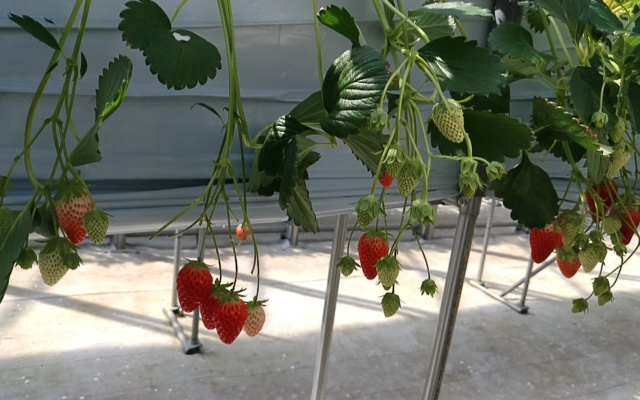GreenStrawberry: (54, 182, 96, 246), (35, 237, 76, 289), (431, 97, 465, 144), (598, 138, 633, 182), (555, 207, 584, 250), (82, 207, 110, 248), (396, 160, 424, 201), (242, 301, 270, 338), (354, 195, 381, 231), (578, 237, 602, 275), (376, 256, 400, 290), (382, 146, 406, 176), (381, 290, 403, 317), (600, 210, 622, 235), (609, 116, 625, 144), (338, 257, 356, 277), (235, 223, 249, 241)
MatureStrawberry: (524, 216, 563, 266), (177, 260, 213, 313), (585, 172, 621, 224), (357, 227, 389, 281), (216, 293, 248, 346), (200, 282, 233, 331), (613, 195, 640, 245), (555, 241, 584, 280)
